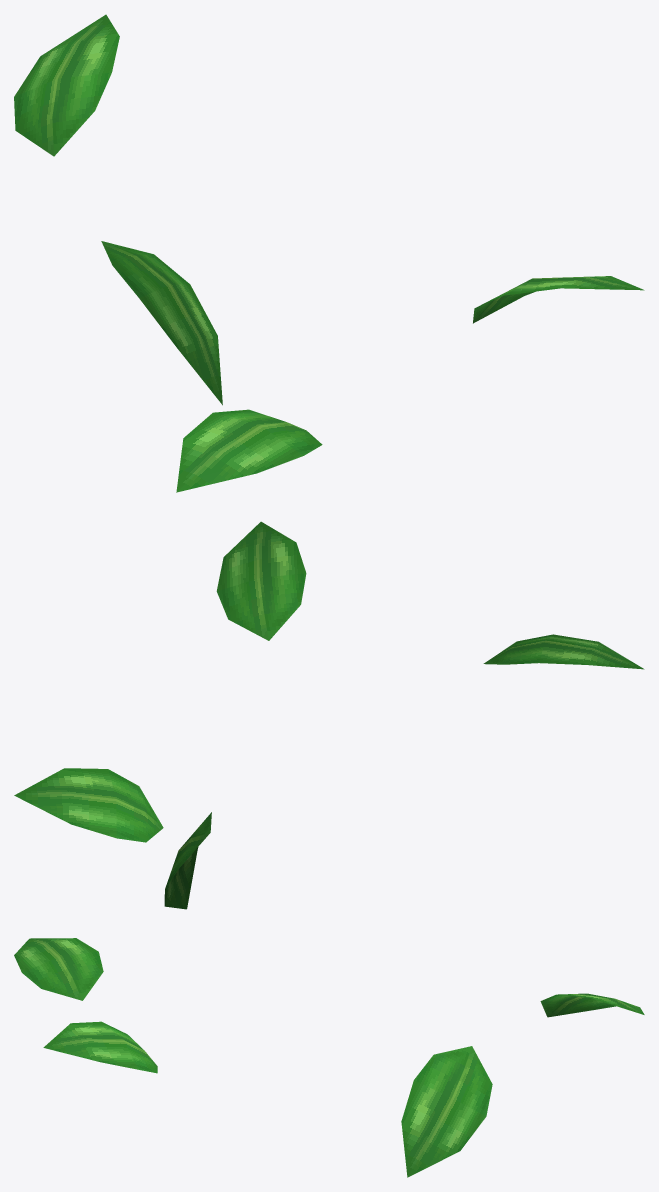
File: EKH_BARRELROOM_PS_JA1_LEAVES84746.fbx
The picture shows the model from 3 angles, top to bottom: view 1: azimuth 30°, elevation 25°; view 2: azimuth 150°, elevation 25°; view 3: azimuth 270°, elevation 25°; orthographic projection. The views are drawn at different scales.
Visible parts, largest first — view 1: EKH_BARRELROOM_PS_JA1_LEAVES84746; view 2: EKH_BARRELROOM_PS_JA1_LEAVES84746; view 3: EKH_BARRELROOM_PS_JA1_LEAVES84746.
Boxes of the visible parts, left/top/right/bottom form: EKH_BARRELROOM_PS_JA1_LEAVES84746: left=14, top=14, right=644, bottom=492; EKH_BARRELROOM_PS_JA1_LEAVES84746: left=14, top=521, right=644, bottom=909; EKH_BARRELROOM_PS_JA1_LEAVES84746: left=14, top=938, right=644, bottom=1177.
Bounding box in the file's own units: 4276 × 2257 × 6826.
Materials: 1 (1 with a texture image).
